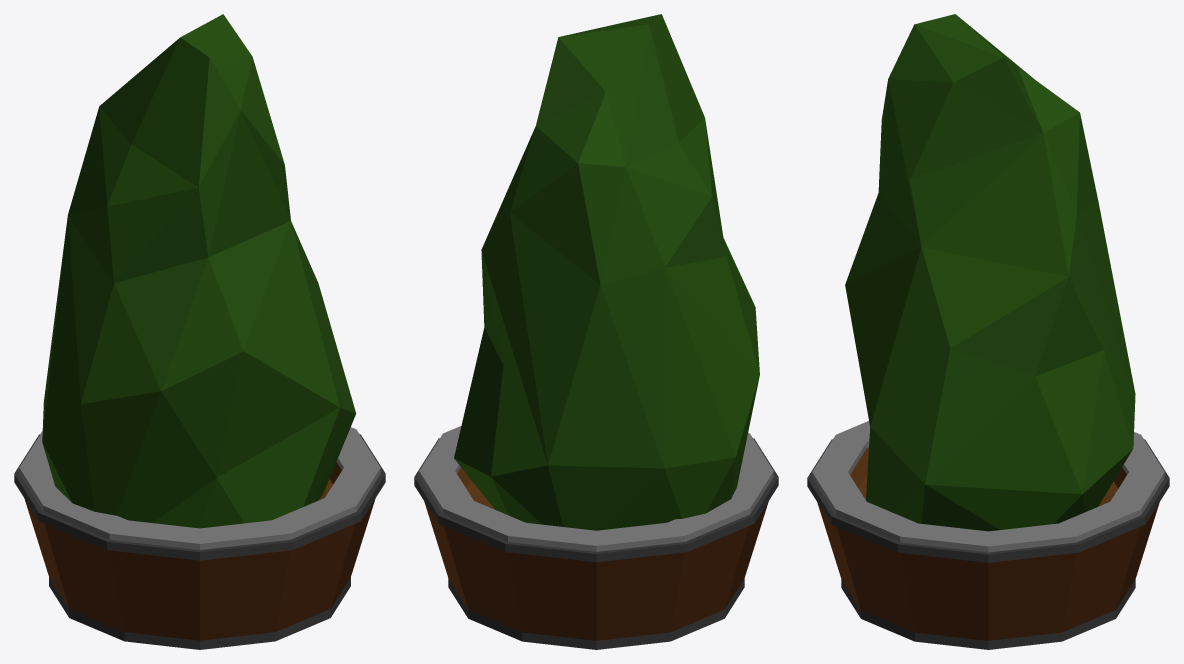
File: Plantingpot01.fbx
The picture shows the model from 3 angles, left to right: view 1: azimuth 30°, elevation 25°; view 2: azimuth 150°, elevation 25°; view 3: azimuth 270°, elevation 25°; orthographic projection. The views are drawn at different scales.
Visible parts, largest first — view 1: Cylinder; view 2: Cylinder; view 3: Cylinder.
Boxes of the visible parts, x1=… form: Cylinder: x1=14, y1=14, x2=385, y2=649; Cylinder: x1=414, y1=14, x2=778, y2=649; Cylinder: x1=807, y1=14, x2=1169, y2=649.
Bounding box in the file's own units: 207 × 350 × 207.
